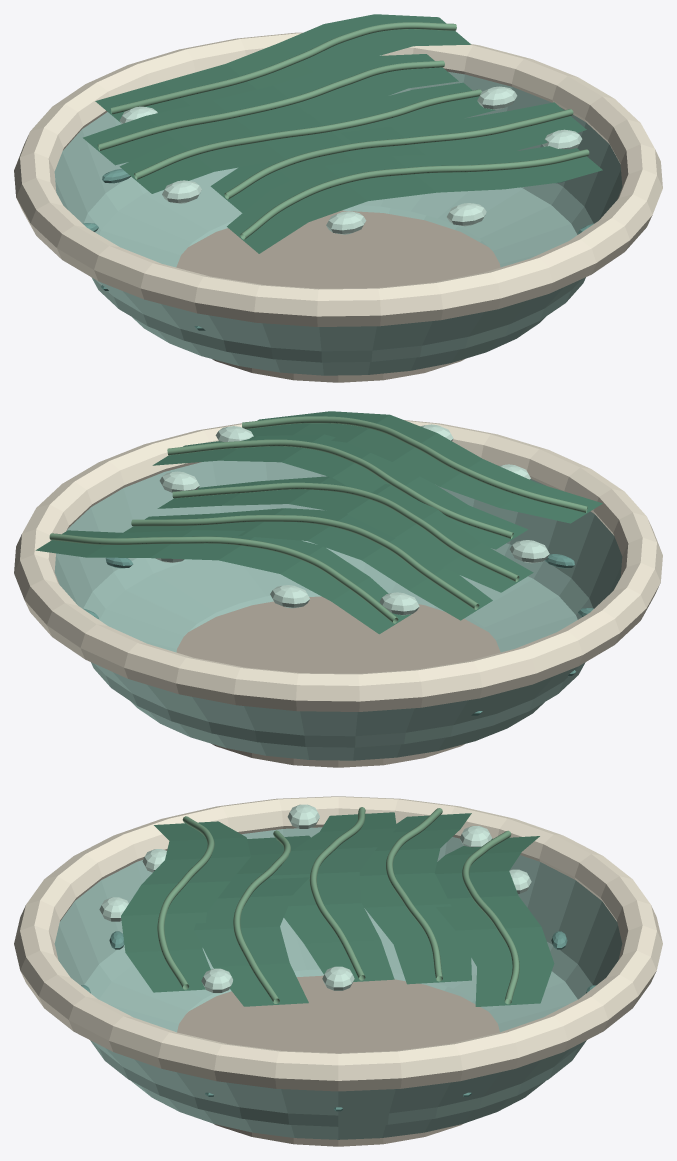
Rendered from washed_seaweed.glb.
3 views of the same model, one above another, from view 1: azimuth 30°, elevation 25°; view 2: azimuth 150°, elevation 25°; view 3: azimuth 270°, elevation 25° (orthographic).
Visible parts, largest first — view 1: seaweed_celadon_colander_rolled_lip, seaweed_celadon_colander_hollow_profile, seaweed_celadon_colander_foot_ring, folded_seaweed_ribbon_0, folded_seaweed_ribbon_2, folded_seaweed_ribbon_4, folded_seaweed_ribbon_3, folded_seaweed_ribbon_1, seaweed_sunlit_ridge_0, seaweed_sunlit_ridge_1, seaweed_sunlit_ridge_2, seaweed_sunlit_ridge_3 (+6 smaller); view 2: seaweed_celadon_colander_hollow_profile, seaweed_celadon_colander_rolled_lip, seaweed_celadon_colander_foot_ring, folded_seaweed_ribbon_0, folded_seaweed_ribbon_2, folded_seaweed_ribbon_4, folded_seaweed_ribbon_3, folded_seaweed_ribbon_1, seaweed_sunlit_ridge_4, seaweed_sunlit_ridge_3, seaweed_sunlit_ridge_2, seaweed_sunlit_ridge_0 (+5 smaller); view 3: seaweed_celadon_colander_rolled_lip, seaweed_celadon_colander_hollow_profile, seaweed_celadon_colander_foot_ring, folded_seaweed_ribbon_0, folded_seaweed_ribbon_4, folded_seaweed_ribbon_2, folded_seaweed_ribbon_3, folded_seaweed_ribbon_1, seaweed_sunlit_ridge_4, seaweed_sunlit_ridge_0, seaweed_sunlit_ridge_3, seaweed_sunlit_ridge_1 (+6 smaller).
Part boxes in pixels (<box>): seaweed_celadon_colander_rolled_lip: <box>14,32,662,326</box>; seaweed_celadon_colander_hollow_profile: <box>54,71,622,375</box>; seaweed_celadon_colander_foot_ring: <box>176,210,500,382</box>; folded_seaweed_ribbon_0: <box>227,146,602,253</box>; folded_seaweed_ribbon_2: <box>119,82,495,193</box>; folded_seaweed_ribbon_4: <box>95,14,470,122</box>; folded_seaweed_ribbon_3: <box>83,54,458,165</box>; folded_seaweed_ribbon_1: <box>210,102,586,212</box>; seaweed_sunlit_ridge_0: <box>240,149,589,239</box>; seaweed_sunlit_ridge_1: <box>224,109,573,199</box>; seaweed_sunlit_ridge_2: <box>134,89,481,179</box>; seaweed_sunlit_ridge_3: <box>98,60,444,150</box>; seaweed_celadon_colander_hollow_profile: <box>54,460,622,760</box>; seaweed_celadon_colander_rolled_lip: <box>14,420,662,711</box>; seaweed_celadon_colander_foot_ring: <box>176,596,500,767</box>; folded_seaweed_ribbon_0: <box>246,411,602,523</box>; folded_seaweed_ribbon_2: <box>157,476,533,592</box>; folded_seaweed_ribbon_4: <box>35,530,411,634</box>; folded_seaweed_ribbon_3: <box>123,508,492,620</box>; folded_seaweed_ribbon_1: <box>152,434,527,549</box>; seaweed_sunlit_ridge_4: <box>49,533,398,623</box>; seaweed_sunlit_ridge_3: <box>131,515,479,609</box>; seaweed_sunlit_ridge_2: <box>172,482,519,581</box>; seaweed_sunlit_ridge_0: <box>242,416,587,512</box>; seaweed_celadon_colander_rolled_lip: <box>14,796,662,1091</box>; seaweed_celadon_colander_hollow_profile: <box>54,827,622,1139</box>; seaweed_celadon_colander_foot_ring: <box>177,975,499,1146</box>; folded_seaweed_ribbon_0: <box>121,821,250,992</box>; folded_seaweed_ribbon_4: <box>434,836,554,1006</box>; folded_seaweed_ribbon_2: <box>270,812,396,981</box>; folded_seaweed_ribbon_3: <box>359,813,471,984</box>; folded_seaweed_ribbon_1: <box>194,835,310,1006</box>; seaweed_sunlit_ridge_4: <box>462,830,519,1004</box>; seaweed_sunlit_ridge_0: <box>157,816,214,989</box>; seaweed_sunlit_ridge_3: <box>386,808,442,981</box>; seaweed_sunlit_ridge_1: <box>233,830,290,1003</box>.
Bounding box in the file's own units: 0.6385 × 0.2145 × 0.6385.
